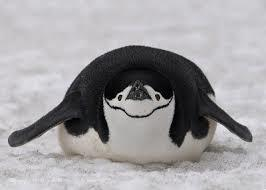chinstrap: (14, 39, 259, 171)
